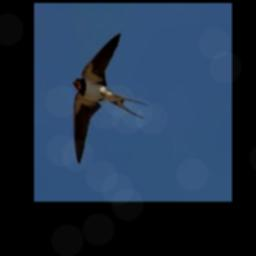Swallow: (72, 35, 148, 164)
